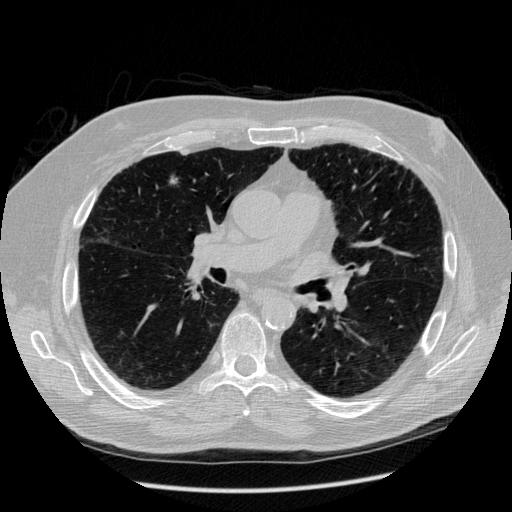nodule: (166, 173, 182, 189)
